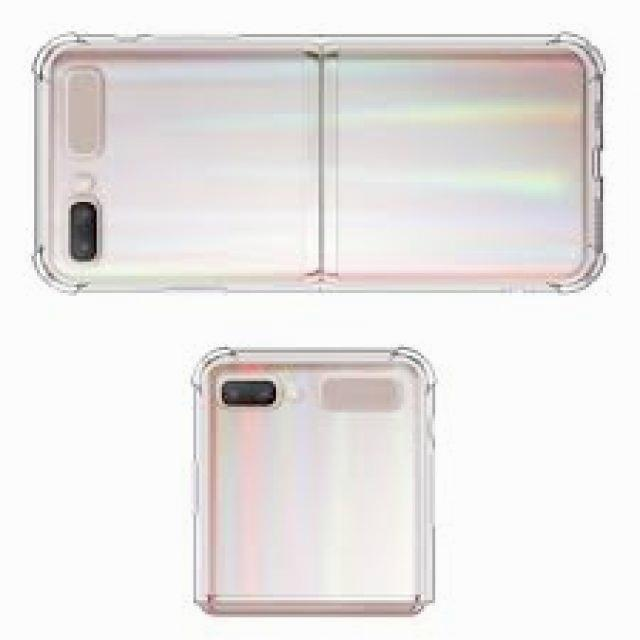lens: (60, 192, 108, 264), (212, 377, 282, 410)
phone: (29, 27, 606, 298), (179, 340, 444, 620)
